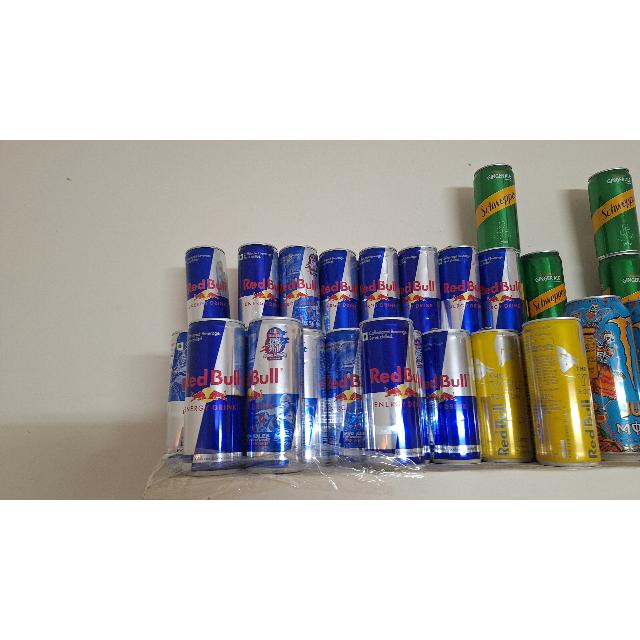Monster Mango Loco: (596, 296, 640, 450)
Redbull: (182, 319, 244, 475), (361, 318, 425, 464), (420, 333, 480, 465), (434, 250, 484, 328), (301, 328, 327, 464), (478, 252, 524, 328), (398, 247, 438, 331), (320, 252, 362, 328), (184, 250, 228, 318), (238, 244, 278, 316), (358, 248, 398, 320)
Redbull DanceYourStyle: (242, 319, 302, 473), (326, 332, 366, 463), (278, 245, 322, 328), (165, 336, 191, 464)
Redbull Yellow Edition: (526, 318, 602, 464), (473, 328, 531, 466)
Schweppes: (584, 169, 638, 253), (472, 166, 524, 248), (524, 256, 570, 314), (603, 258, 639, 296)
